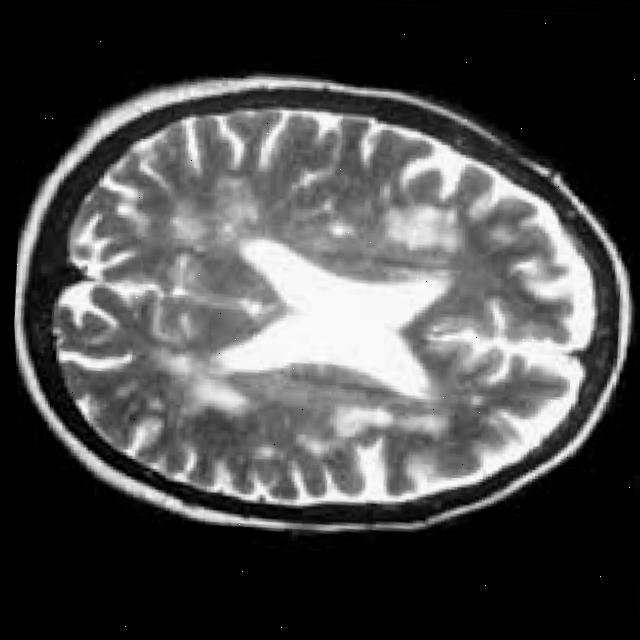NoTumor: (3, 37, 640, 570)
